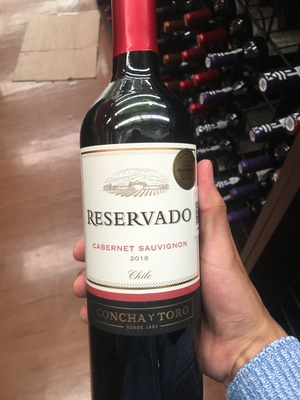reservado cabernet sauvignon: (79, 8, 210, 400)
